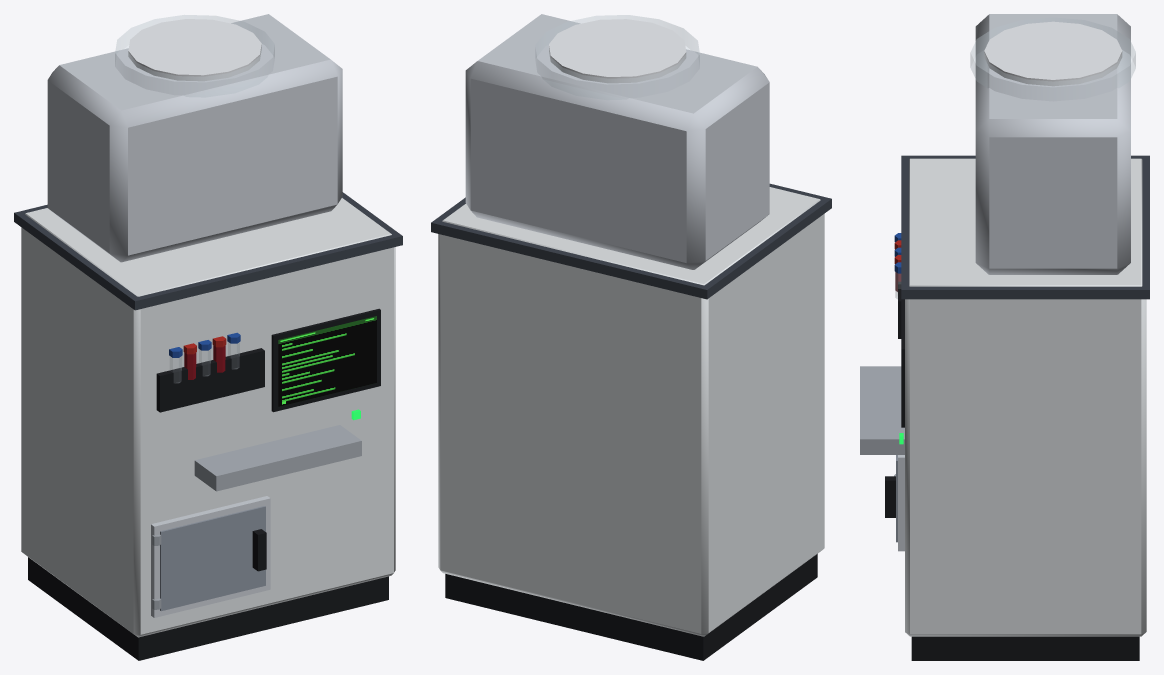
The model's file is medscanner_blood_analyser.glb.
The picture shows the model from 3 angles, left to right: view 1: azimuth 30°, elevation 25°; view 2: azimuth 150°, elevation 25°; view 3: azimuth 270°, elevation 25°; orthographic projection. The views are drawn at different scales.
Parts seen in each view (by area): view 1: medscanner_blood_analyser; view 2: medscanner_blood_analyser; view 3: medscanner_blood_analyser.
Part boxes in pixels (x1,y1,x2,y2): medscanner_blood_analyser: (14, 14, 402, 660); medscanner_blood_analyser: (431, 14, 831, 660); medscanner_blood_analyser: (860, 14, 1149, 660).
Size of the model in its own units: 0.92 by 1.75 by 0.84.
13 materials, 1 textured.
